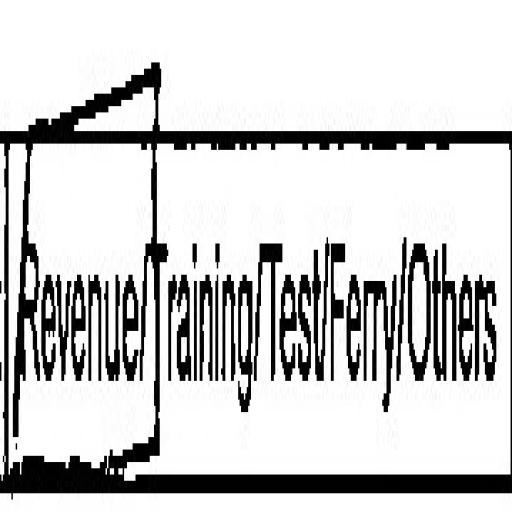check: (4, 6, 146, 512)
